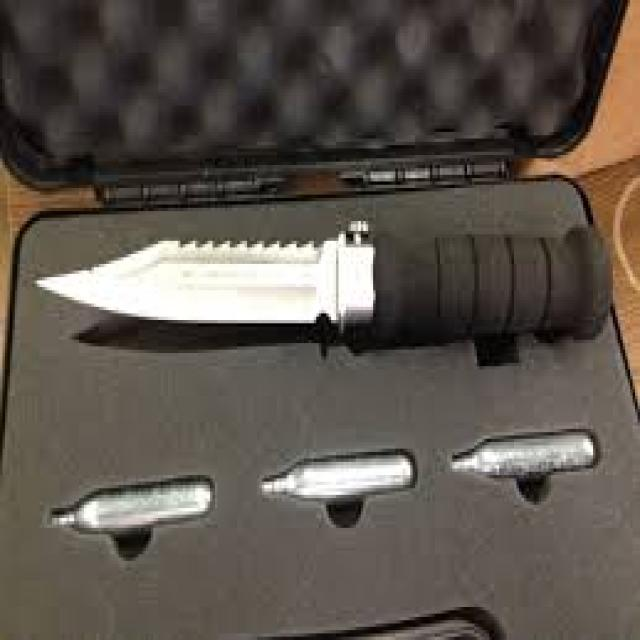knives: (39, 230, 606, 338)
